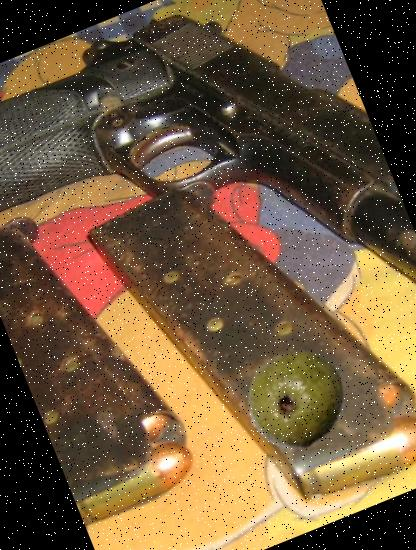Guava: (231, 332, 364, 465)
